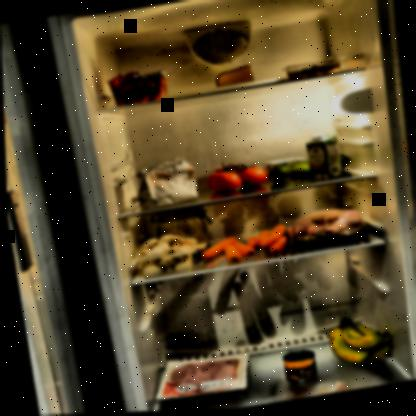banana: (318, 311, 394, 373)
carrot: (194, 222, 292, 269)
cheese: (212, 63, 257, 92)
chicken: (283, 204, 371, 255)
corn: (277, 350, 315, 387)
heavy_cream: (302, 132, 344, 186)
lime: (264, 154, 355, 186)
mushrooms: (129, 230, 205, 279)
shrimp: (290, 63, 341, 84)
strawberries: (106, 67, 171, 108)
tomato: (199, 155, 269, 198)
